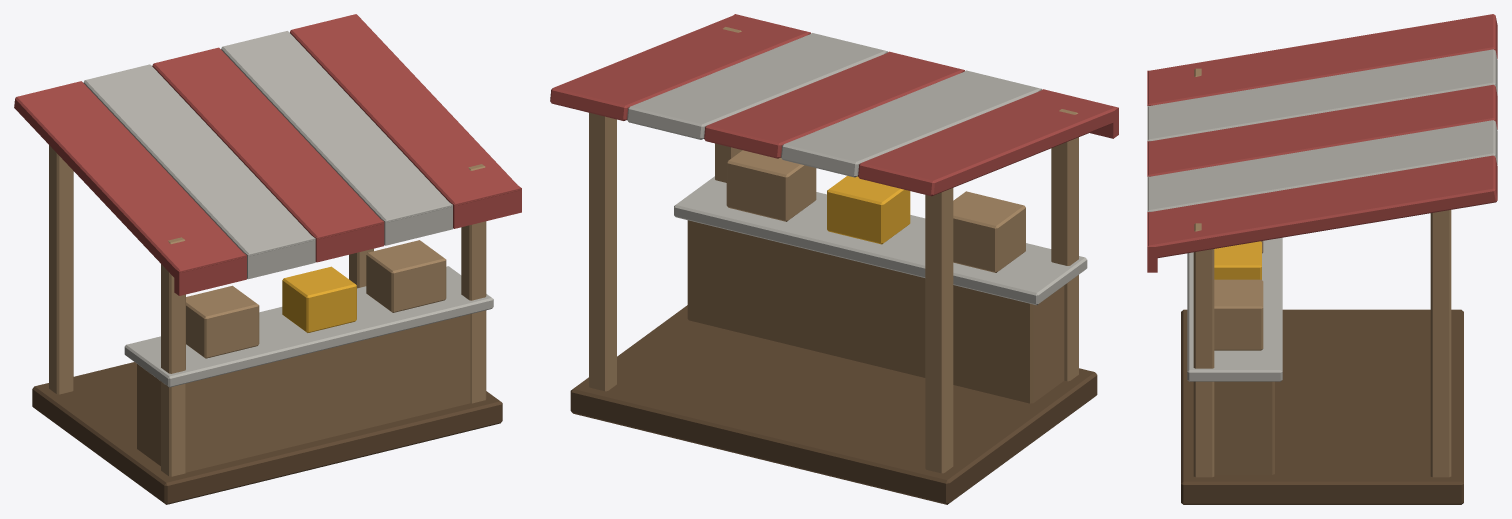
The model's file is Stylized_Landmark_MarketStall_Red.fbx.
3 renders of one model, left to right at view 1: azimuth 30°, elevation 25°; view 2: azimuth 150°, elevation 25°; view 3: azimuth 270°, elevation 25°, orthographic. The views are drawn at different scales.
Visible parts, largest first — view 1: Stylized_Landmark_MarketStall_Red; view 2: Stylized_Landmark_MarketStall_Red; view 3: Stylized_Landmark_MarketStall_Red.
Boxes of the visible parts, x1,y1,x2,y2 form: Stylized_Landmark_MarketStall_Red: [14, 14, 521, 504]; Stylized_Landmark_MarketStall_Red: [550, 14, 1118, 504]; Stylized_Landmark_MarketStall_Red: [1147, 14, 1497, 504].
Size of the model in its own units: 3.24 by 2.72 by 2.72.
